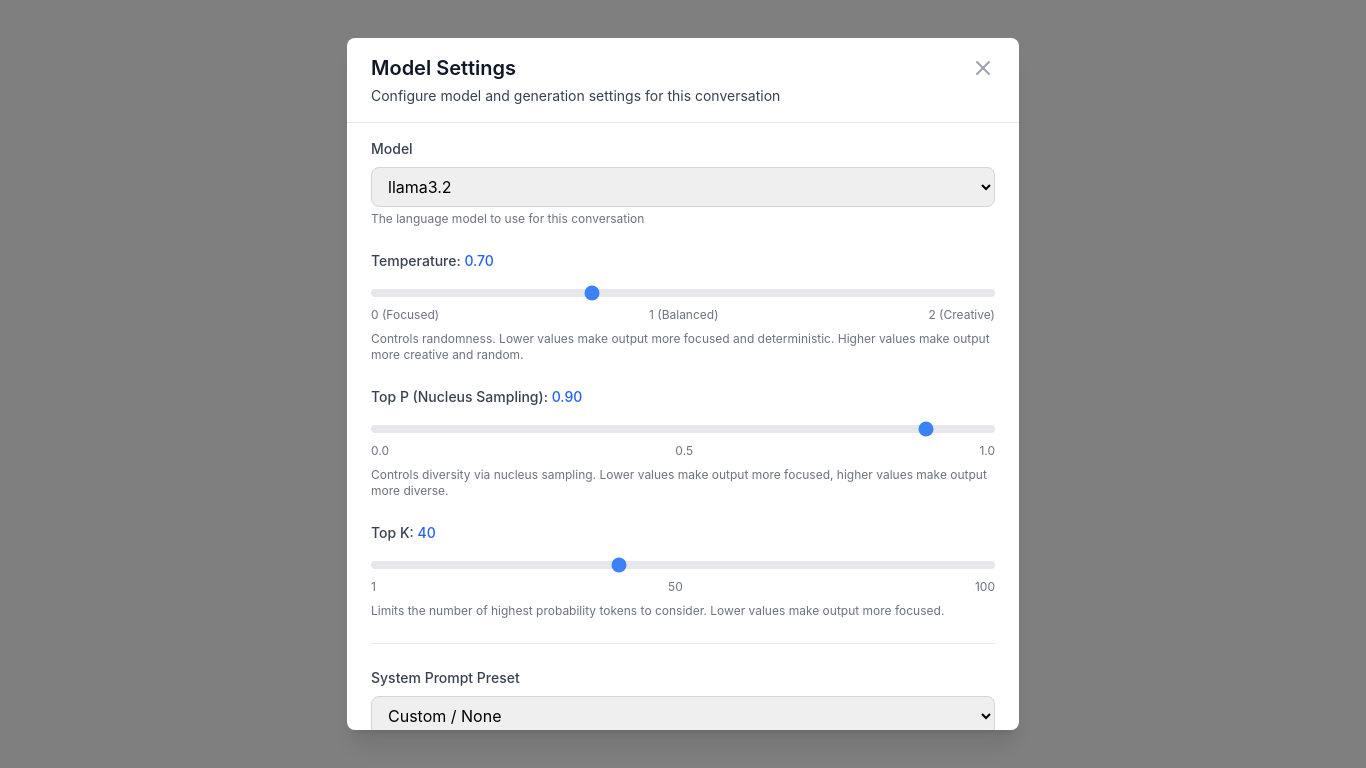
it: ModelSettings › Top K Setting › should update top_k on slider change
Set the slider labelled "Top K: 40" to "80": (864, 565) [371,561,995,569]
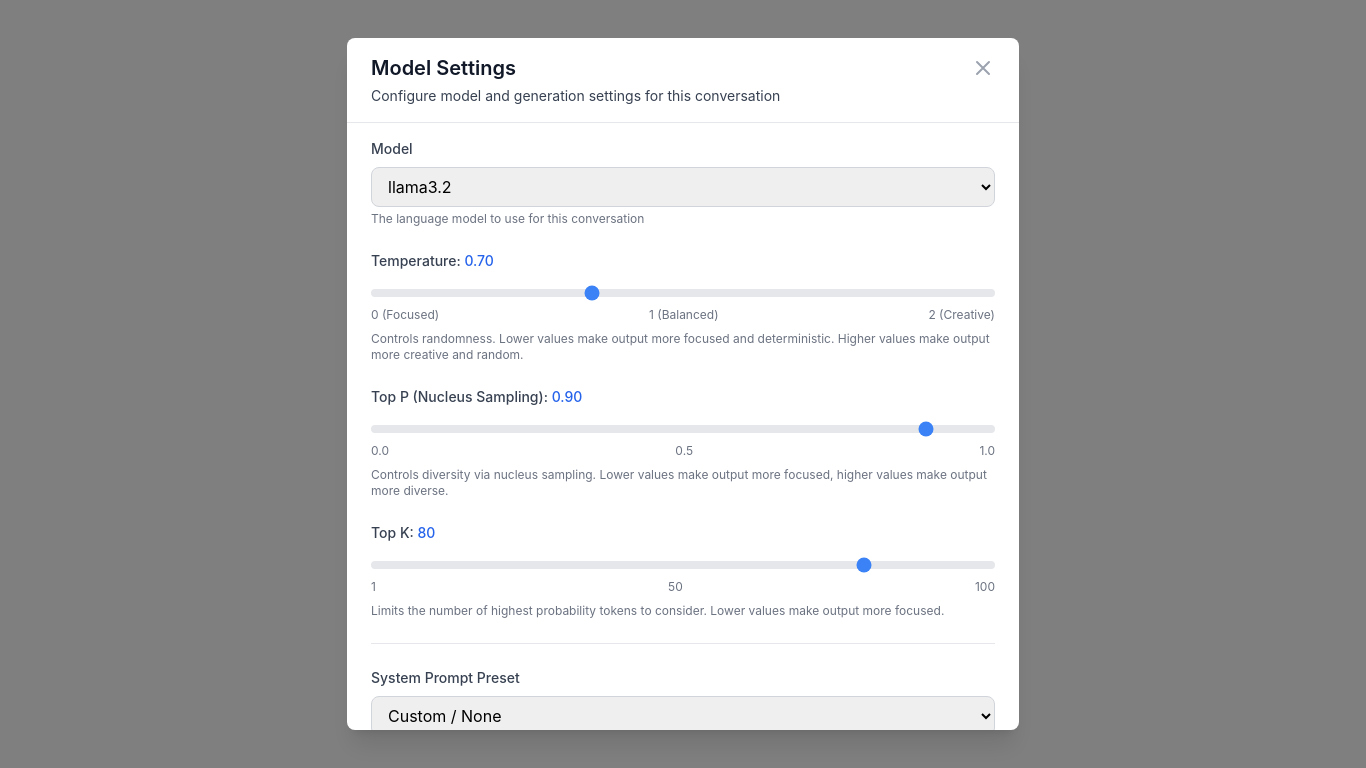
Check: the text "80" is shown, box [418,524,435,541]
